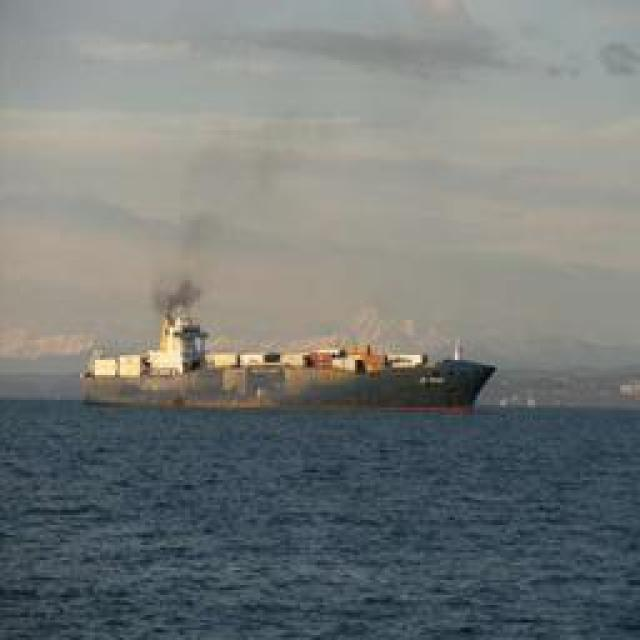Ship: (75, 310, 485, 415)
